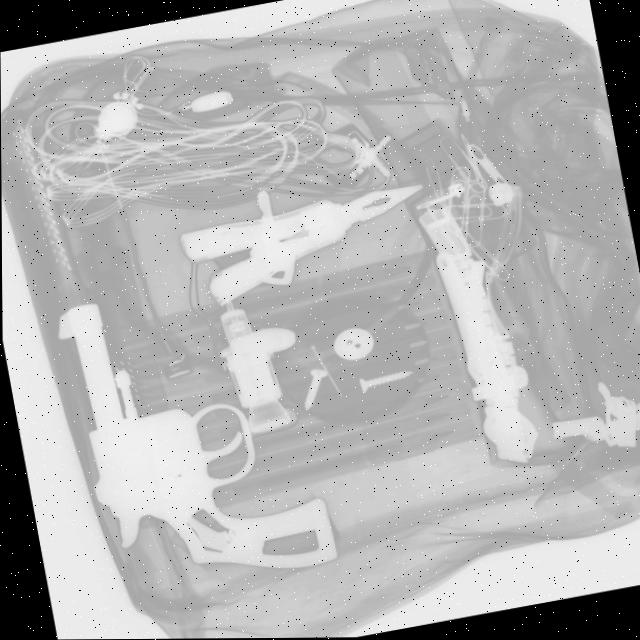pistol: (50, 264, 339, 605)
